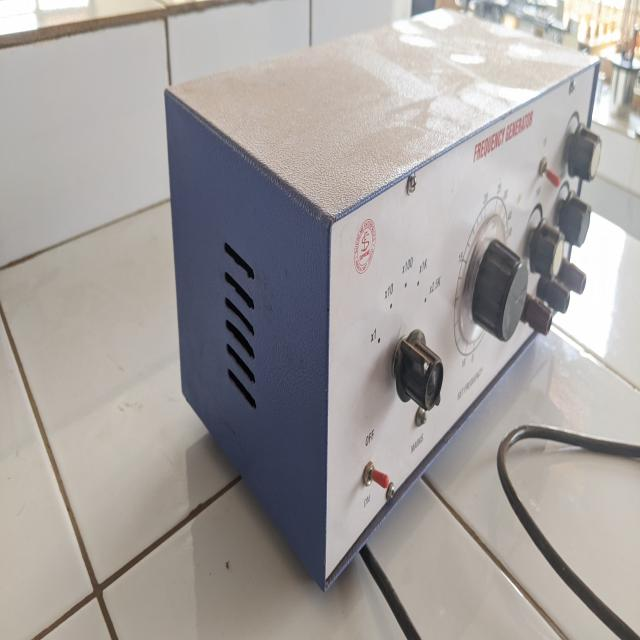Analog Frequency Generator: (158, 88, 624, 583)
